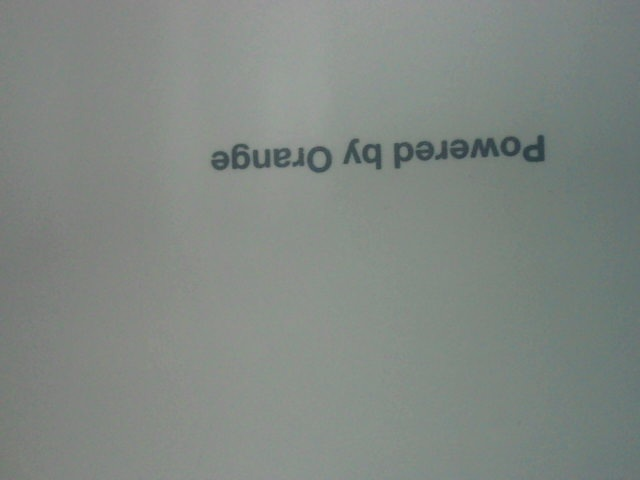AS_PowerByOrange: (207, 122, 558, 177)
